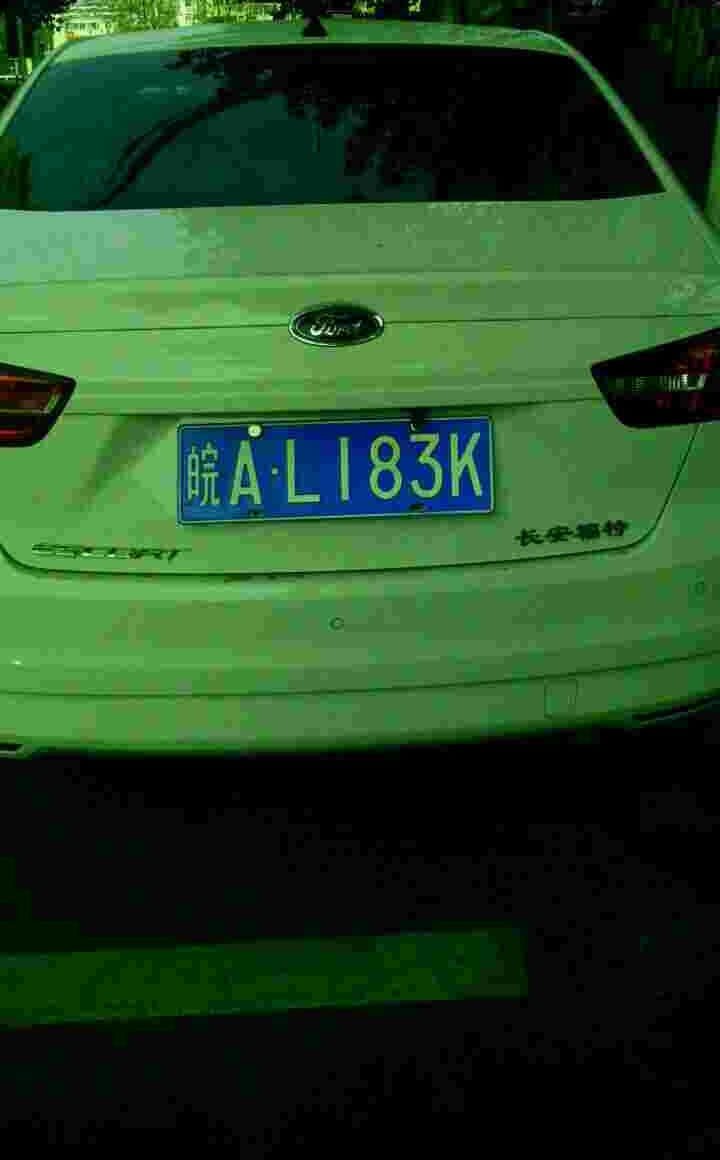car: (169, 412, 504, 505)
